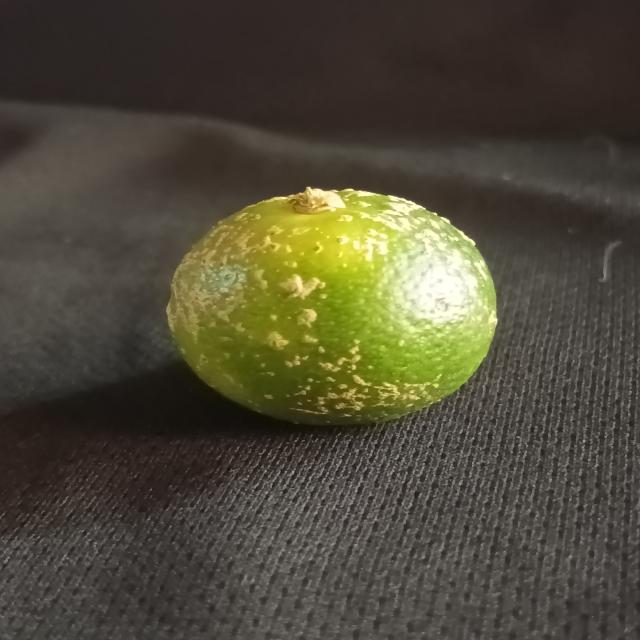scab: (160, 185, 502, 424)
